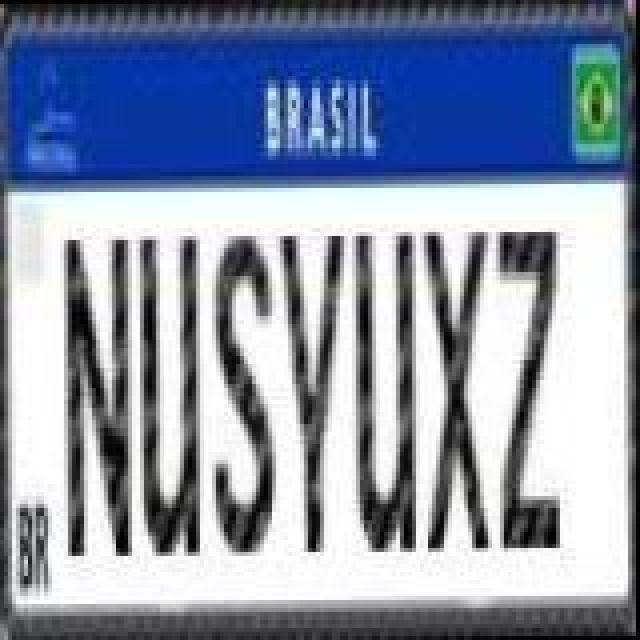N: (64, 234, 136, 558)
S: (214, 226, 282, 562)
U: (354, 228, 422, 552), (140, 232, 204, 556)
X: (422, 228, 490, 552)
Y: (280, 230, 352, 554)
Z: (496, 226, 560, 550)
